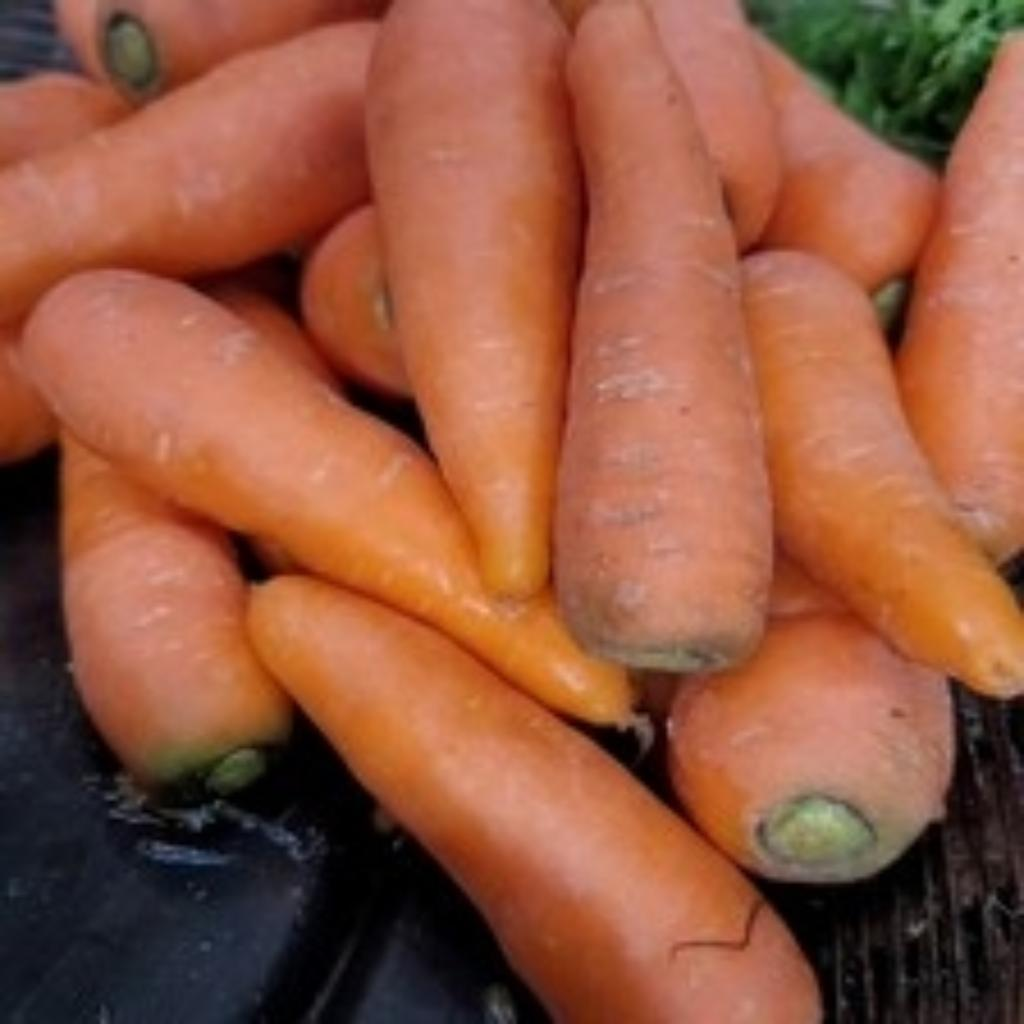carrot: (24, 270, 624, 721), (252, 576, 820, 1024), (366, 0, 580, 595), (749, 256, 1024, 697), (1, 25, 376, 335), (670, 560, 954, 883), (65, 434, 292, 783)
